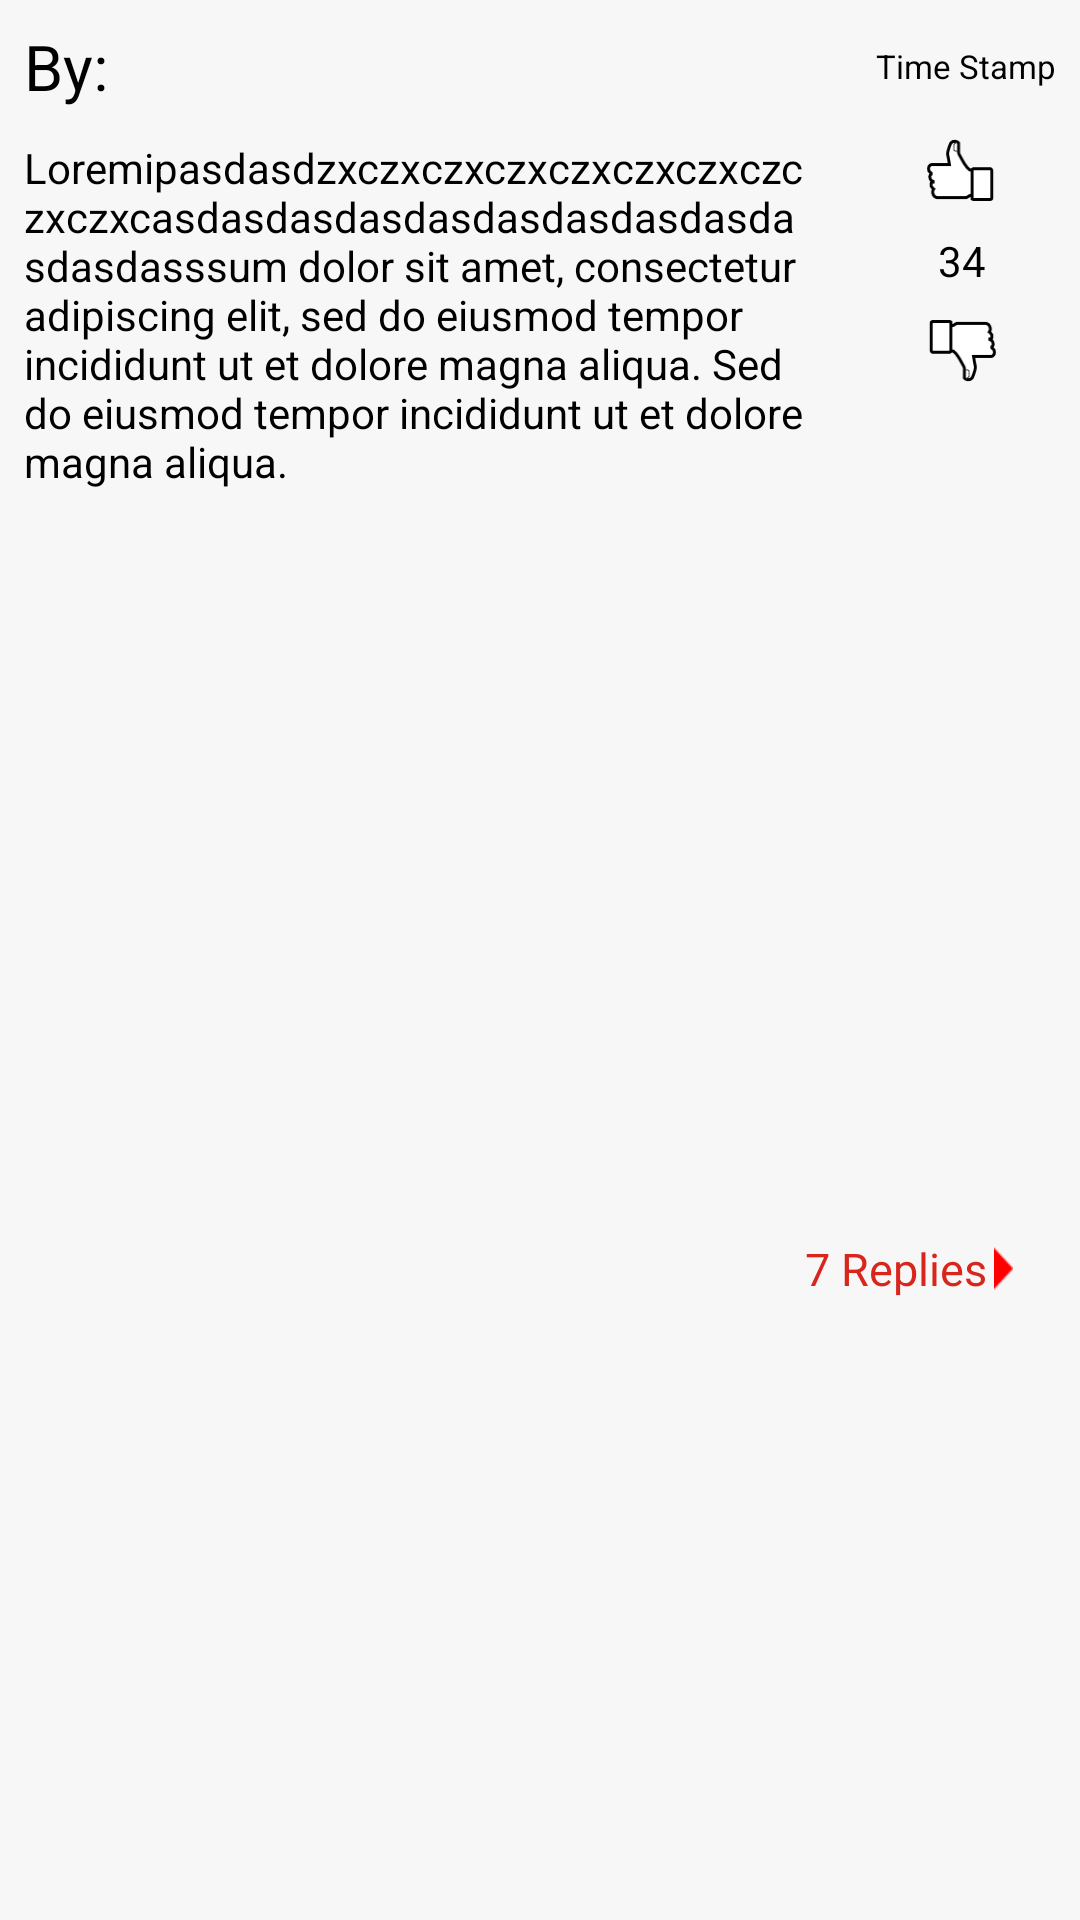

Screen size 1080x1920. Icon name, then its box in pixels as [left=x1, top=y1, right=x2, bottom=y2]:
down vote: [left=929, top=320, right=996, bottom=382]
replies triangle: [left=994, top=1247, right=1013, bottom=1290]
up vote: [left=927, top=139, right=994, bottom=201]
